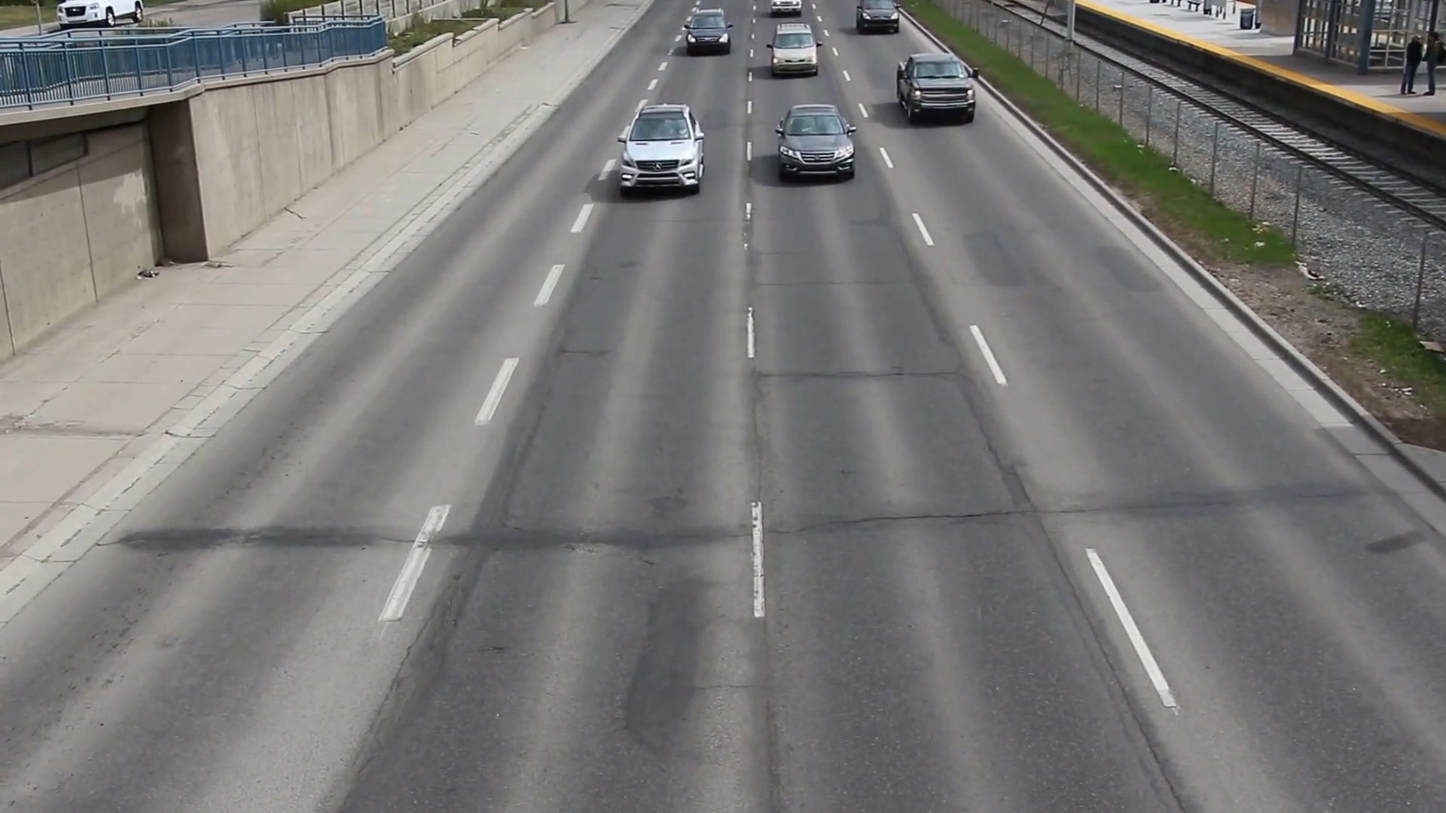car: (616, 98, 707, 194), (772, 100, 859, 181), (893, 53, 980, 125)
